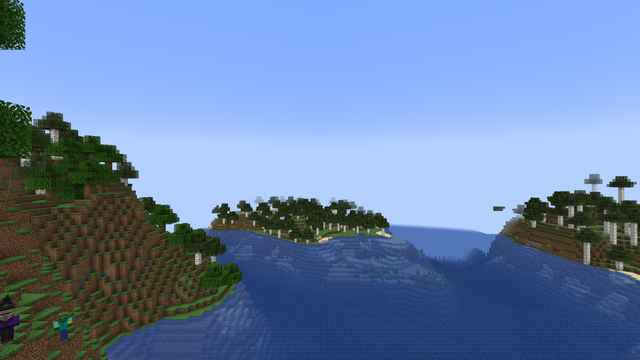sorcieres: (0, 304, 18, 347)
zombies: (54, 312, 70, 343)
